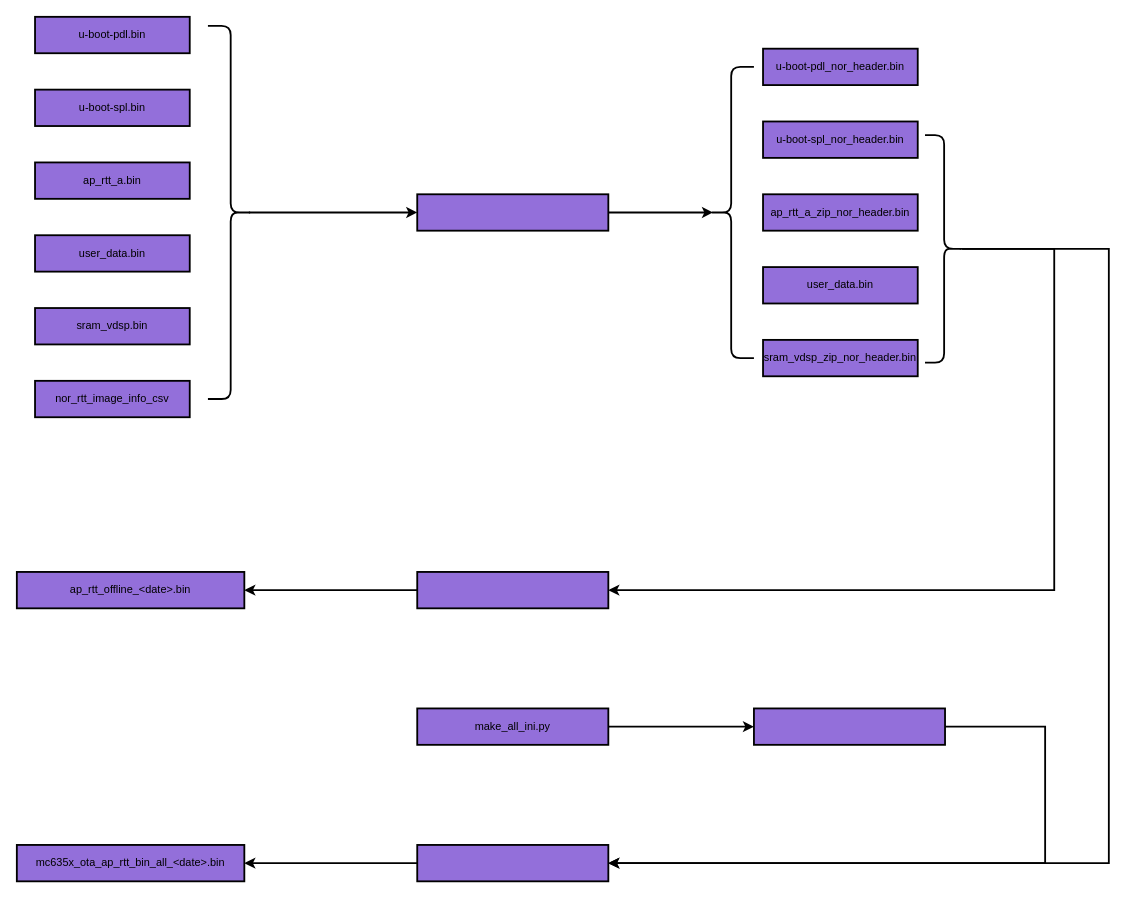
Some shapes in this 1132 by 897 pixel diagram are drawn without their labels. Each missing label, with the box of its shape:
ImageInfo_ALL.ini: (753, 707, 945, 745)
make_OTA_ALL_file.py: (416, 844, 609, 882)
makeFlash.py: (416, 571, 609, 609)
mkimage.py: (416, 193, 609, 231)
